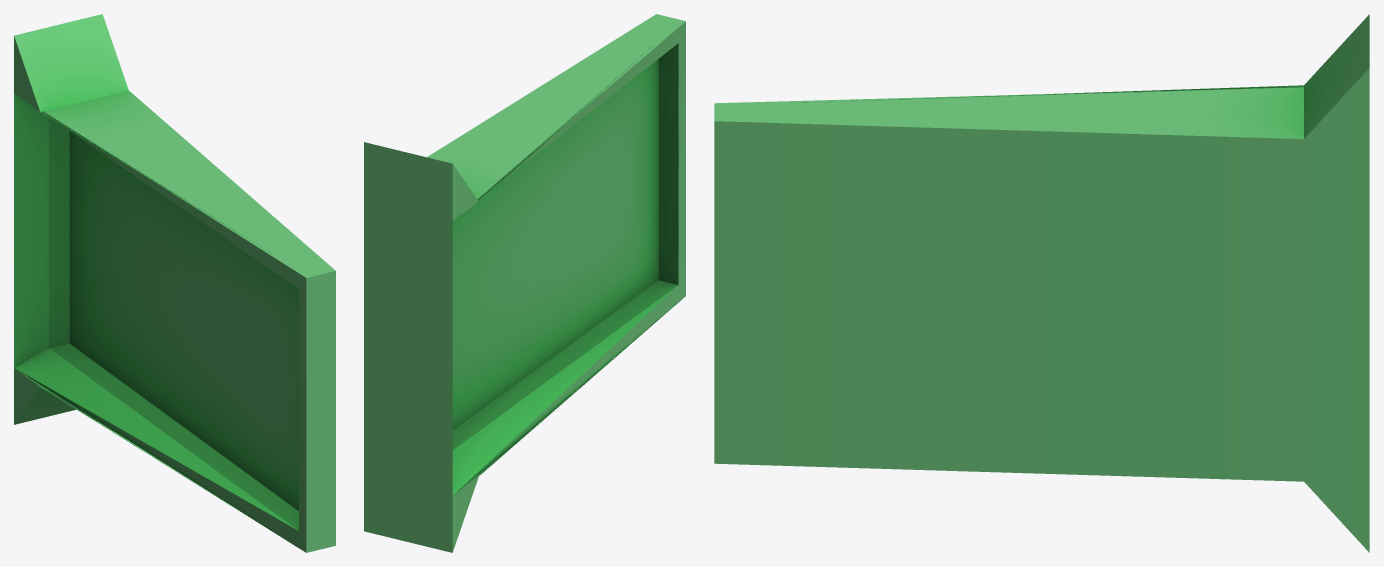
Rendered from door.fbx.
3 views of the same model, side by side, from view 1: azimuth 30°, elevation 25°; view 2: azimuth 150°, elevation 25°; view 3: azimuth 270°, elevation 25° (orthographic). The views are drawn at different scales.
Visible parts, largest first — view 1: Cube_001; view 2: Cube_001; view 3: Cube_001.
Boxes of the visible parts, x1,y1,x2,y2 form: Cube_001: [14, 14, 335, 552]; Cube_001: [364, 14, 685, 552]; Cube_001: [714, 14, 1369, 552].
Bounding box in the file's own units: 14.94 × 62.75 × 76.8.
1 material, 1 textured.
